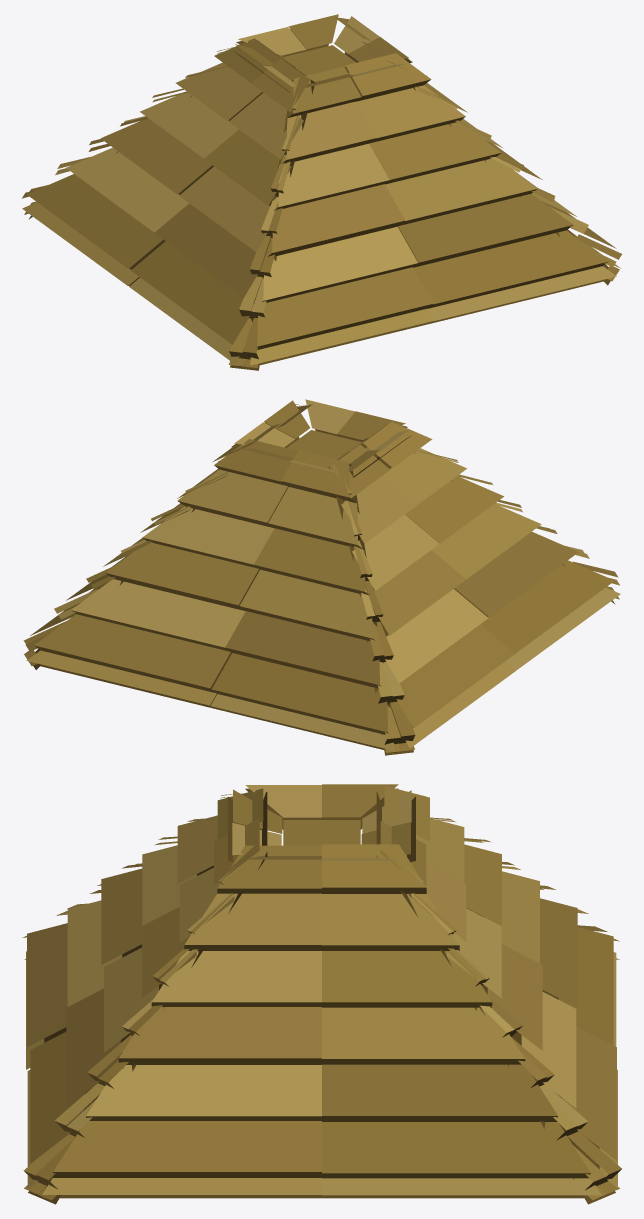
Rendered from roof-point-thatch.glb.
The picture shows the model from 3 angles, top to bottom: view 1: azimuth 30°, elevation 25°; view 2: azimuth 150°, elevation 25°; view 3: azimuth 270°, elevation 25°; orthographic projection. The views are drawn at different scales.
Visible parts, largest first — view 1: roof-point-thatch; view 2: roof-point-thatch; view 3: roof-point-thatch.
Part boxes in pixels (x1=…): roof-point-thatch: x1=22, y1=14, x2=621, y2=370; roof-point-thatch: x1=23, y1=399, x2=620, y2=755; roof-point-thatch: x1=22, y1=784, x2=621, y2=1204.
Size of the model in its own units: 1.1 by 0.5166 by 1.1.
